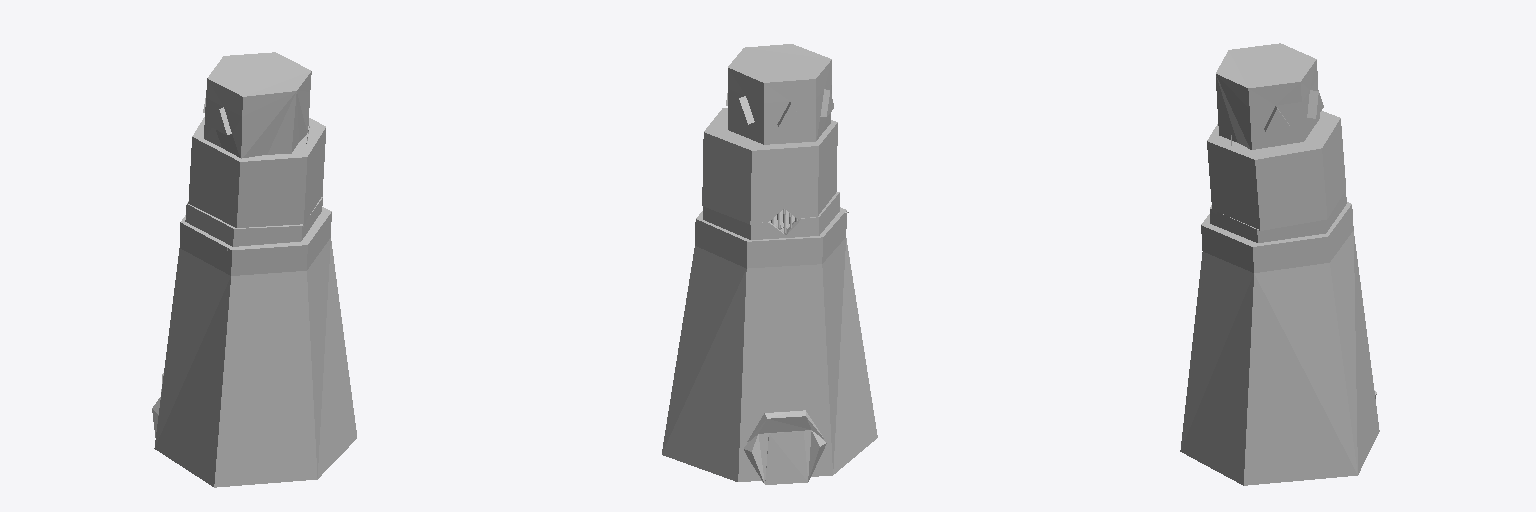
3 views of the same model, side by side, from view 1: azimuth 30°, elevation 25°; view 2: azimuth 150°, elevation 25°; view 3: azimuth 270°, elevation 25° (orthographic).
Parts seen in each view (by area): view 1: group[number redacted], group[number redacted], group[number redacted], group[number redacted]; view 2: group[number redacted], group[number redacted], group[number redacted], group[number redacted], group[number redacted], group[number redacted]; view 3: group[number redacted], group[number redacted], group[number redacted], group[number redacted].
Part boxes in pixels (x1,y1,x2,y2): group[number redacted]: (154,207,356,487); group[number redacted]: (188,117,325,227); group[number redacted]: (203,52,311,158); group[number redacted]: (185,197,322,246); group[number redacted]: (662,207,877,481); group[number redacted]: (702,108,837,224); group[number redacted]: (726,44,833,144); group[number redacted]: (744,410,826,483); group[number redacted]: (703,192,839,239); group[number redacted]: (765,431,807,484); group[number redacted]: (1180,202,1379,485); group[number redacted]: (1207,111,1345,230); group[number redacted]: (1216,43,1323,149); group[number redacted]: (1210,190,1346,242).
Size of the model in its own units: 0.4055 by 0.8827 by 0.42.